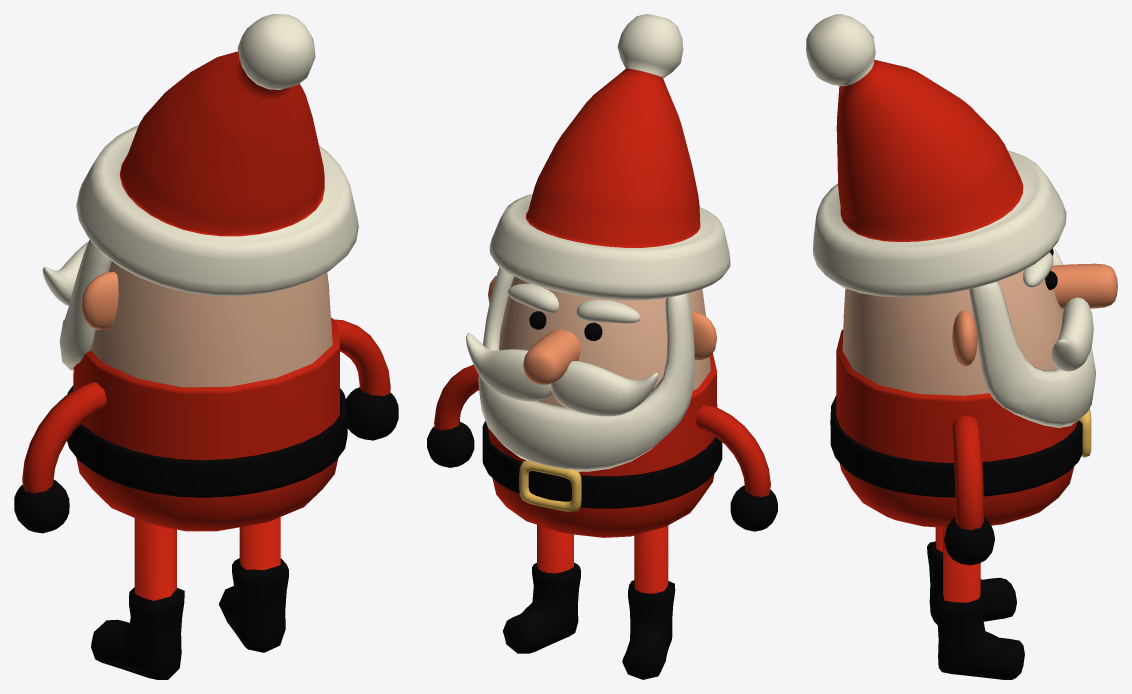
Rendered from Low_Poly_Santa_Claus2.glb.
The picture shows the model from 3 angles, left to right: view 1: azimuth 30°, elevation 25°; view 2: azimuth 150°, elevation 25°; view 3: azimuth 270°, elevation 25°; orthographic projection. The views are drawn at different scales.
Parts seen in each view (by area): view 1: Santa claus; view 2: Santa claus; view 3: Santa claus.
Part boxes in pixels (bbox=[...]): Santa claus: bbox=[14, 14, 398, 679]; Santa claus: bbox=[427, 14, 777, 679]; Santa claus: bbox=[806, 14, 1117, 679].
Size of the model in its own units: 1.19 by 2.01 by 0.8947.
